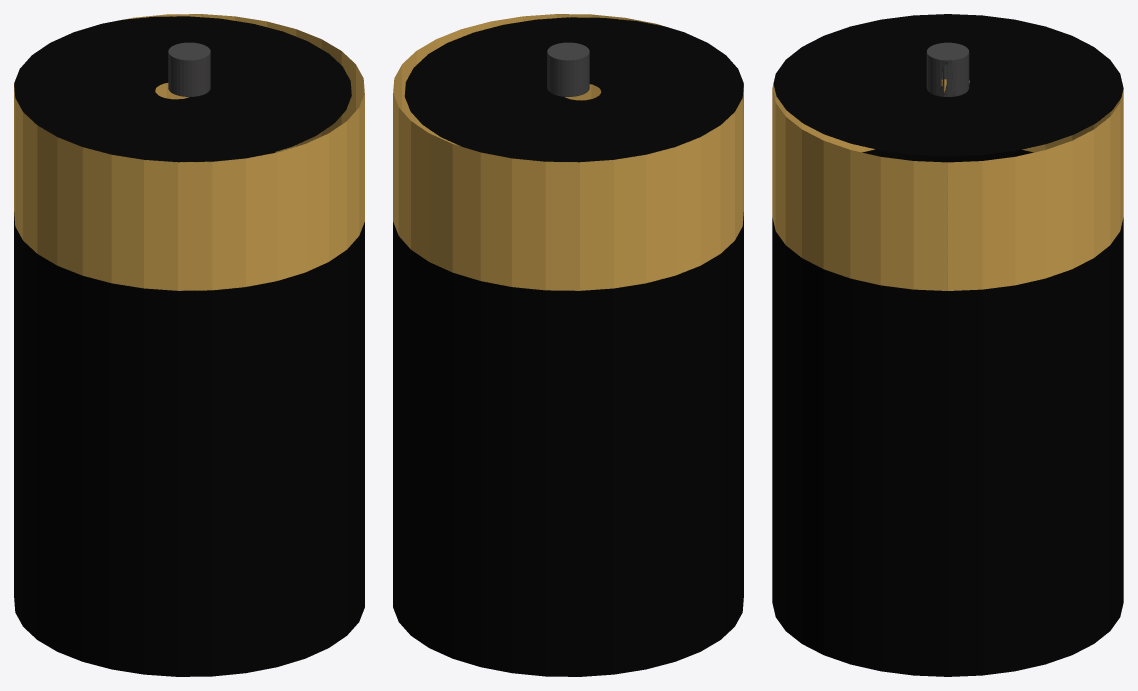
Rendered from Battery.fbx.
3 views of the same model, side by side, from view 1: azimuth 30°, elevation 25°; view 2: azimuth 150°, elevation 25°; view 3: azimuth 270°, elevation 25° (orthographic).
Parts seen in each view (by area): view 1: Battery; view 2: Battery; view 3: Battery.
Boxes of the visible parts, x1,y1,x2,y2 form: Battery: [14, 14, 364, 676]; Battery: [393, 14, 743, 676]; Battery: [772, 14, 1123, 676].
Bounding box in the file's own units: 20 × 34.83 × 20.
